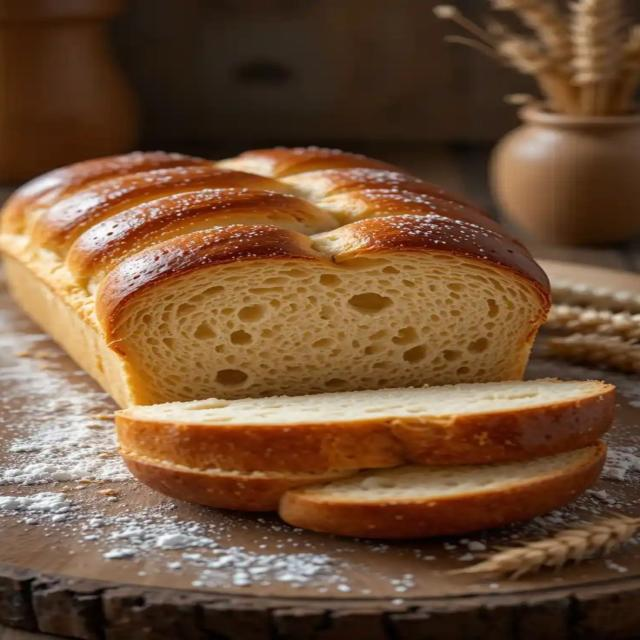bread: (0, 148, 549, 406), (116, 380, 614, 510), (116, 380, 614, 473), (121, 444, 606, 538), (279, 444, 606, 538), (120, 449, 357, 511)
